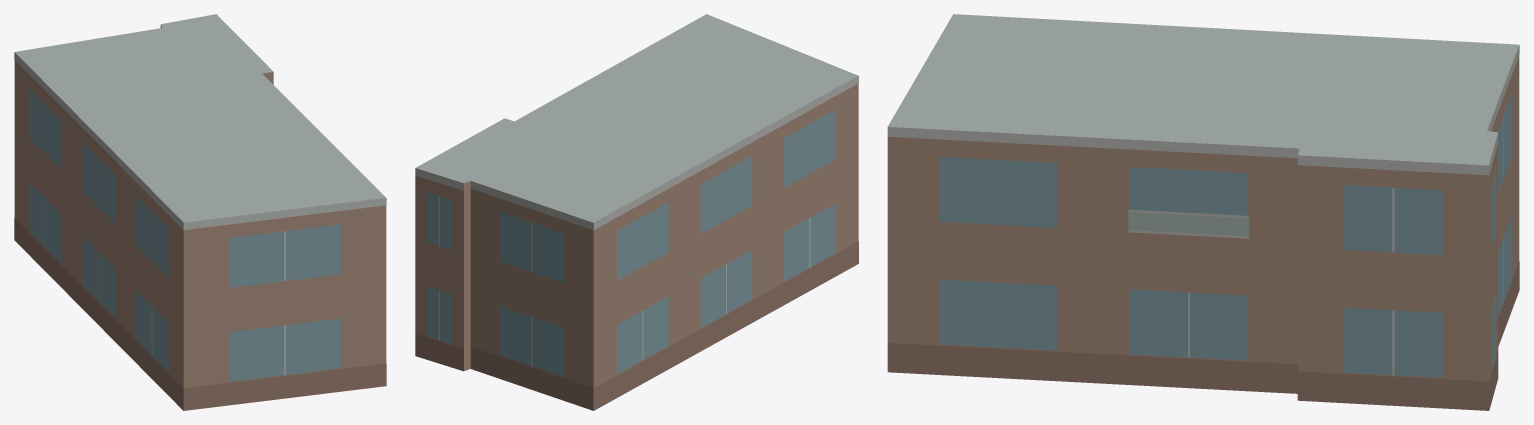
Rendered from survey-upis-33007562.glb.
The picture shows the model from 3 angles, left to right: view 1: azimuth 30°, elevation 25°; view 2: azimuth 150°, elevation 25°; view 3: azimuth 270°, elevation 25°; orthographic projection. The views are drawn at different scales.
Parts seen in each view (by area): view 1: survey-upis-33007562.tmp; view 2: survey-upis-33007562.tmp; view 3: survey-upis-33007562.tmp.
Boxes of the visible parts, bbox=[...] form: survey-upis-33007562.tmp: bbox=[14, 14, 386, 410]; survey-upis-33007562.tmp: bbox=[415, 14, 858, 410]; survey-upis-33007562.tmp: bbox=[887, 14, 1519, 410].
Size of the model in its own units: 8.09 by 6.1 by 14.26.
